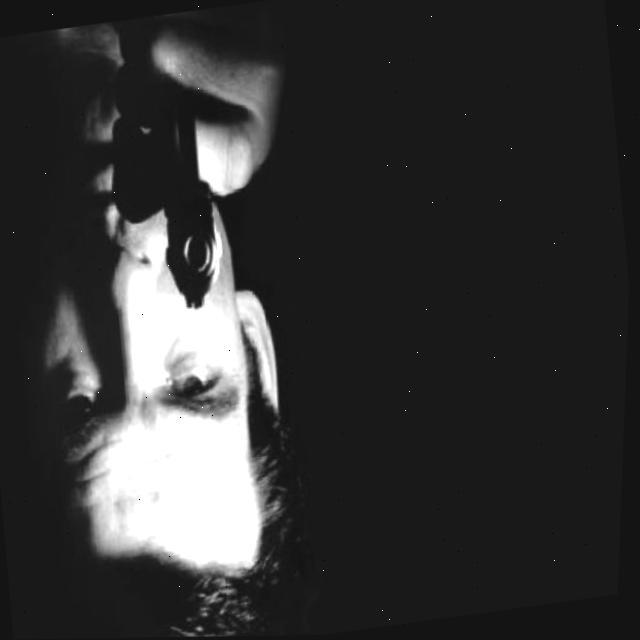gun: (137, 102, 246, 321)
